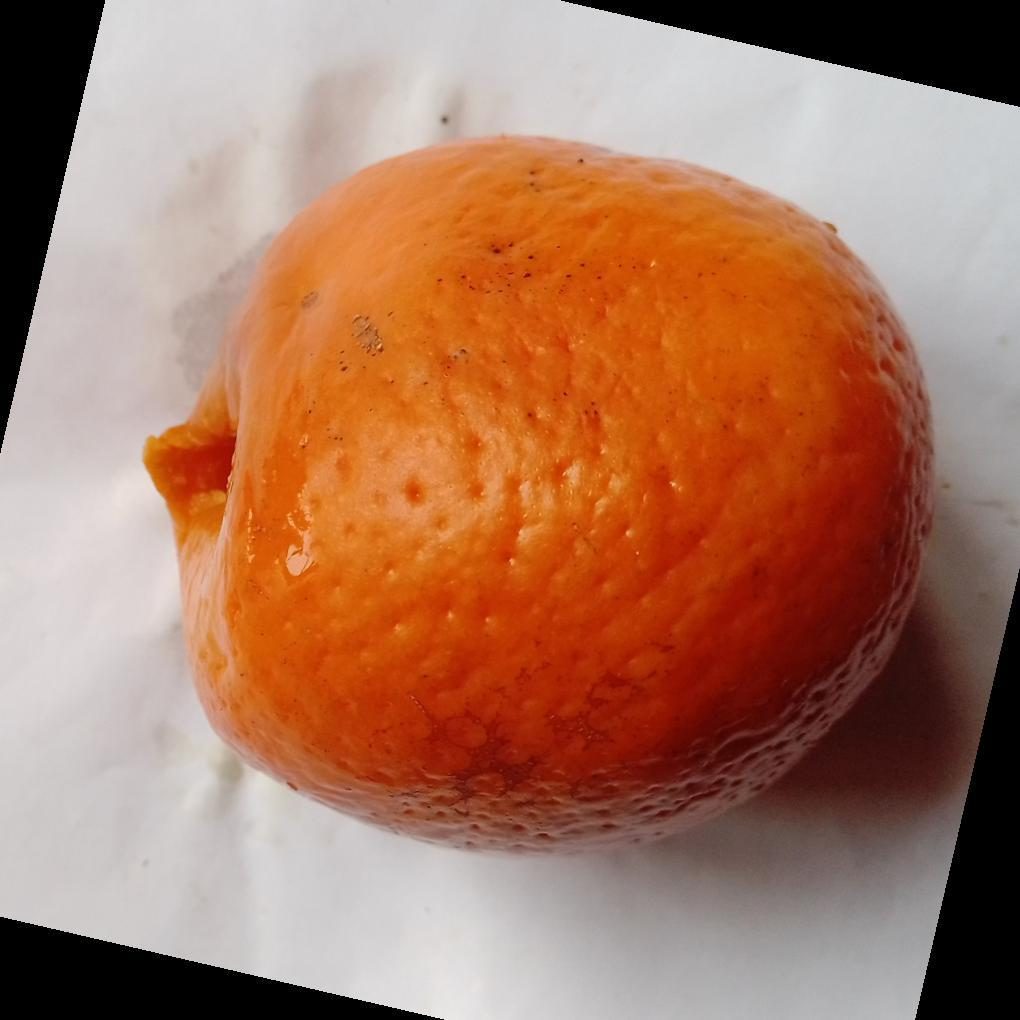FreshOrange: (140, 135, 937, 859)
